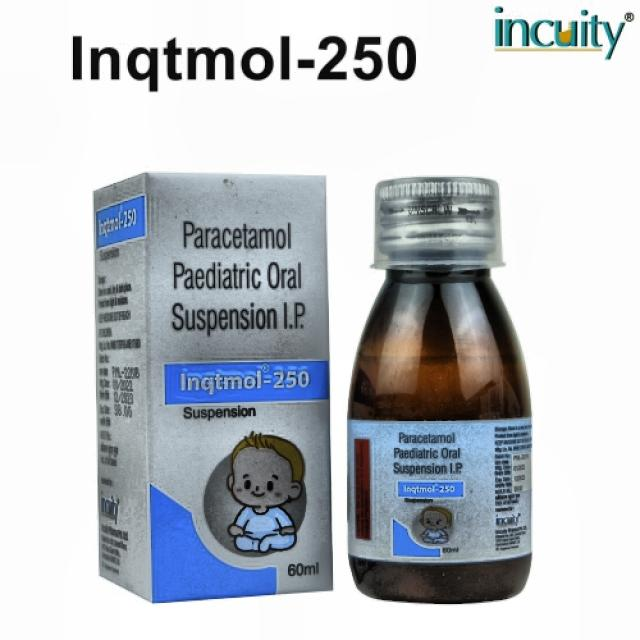Paracetamol: (156, 212, 312, 398)
